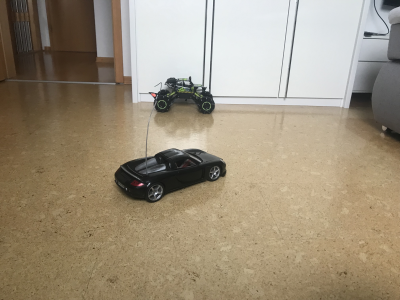remote control car: (152, 74, 216, 115)
